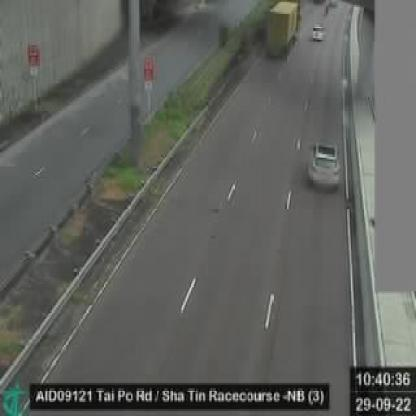Car: (300, 139, 346, 192), (308, 22, 326, 43)
Truck: (264, 0, 303, 55)
